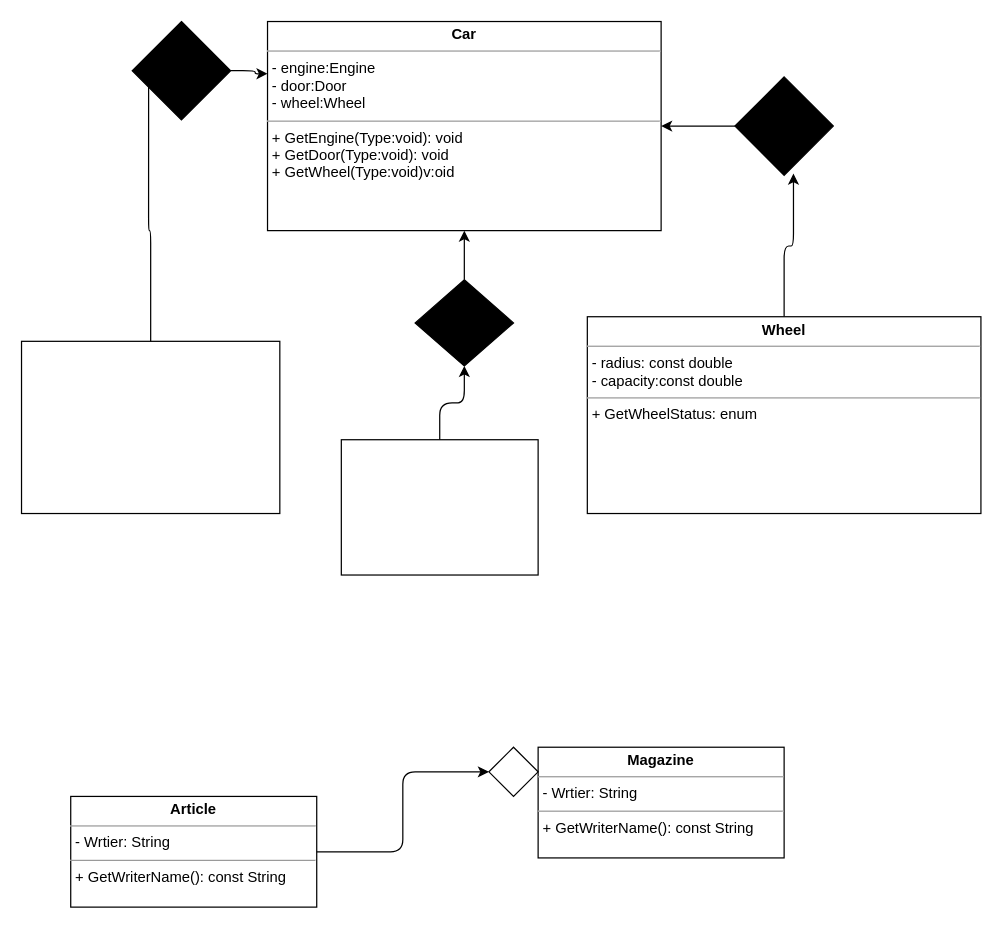
This 1002x929 diagram has some shape labels left out. Here are the shapes that lost their labels. From the top down, the box of each, then its label:
(20, 340, 280, 514): Engine -Power:const double -Capacity:const double + StartEngine(): bool
(340, 438, 538, 575): Door - size:const double - color:Door + OpenDoor():bool + CloseDoor():bool
